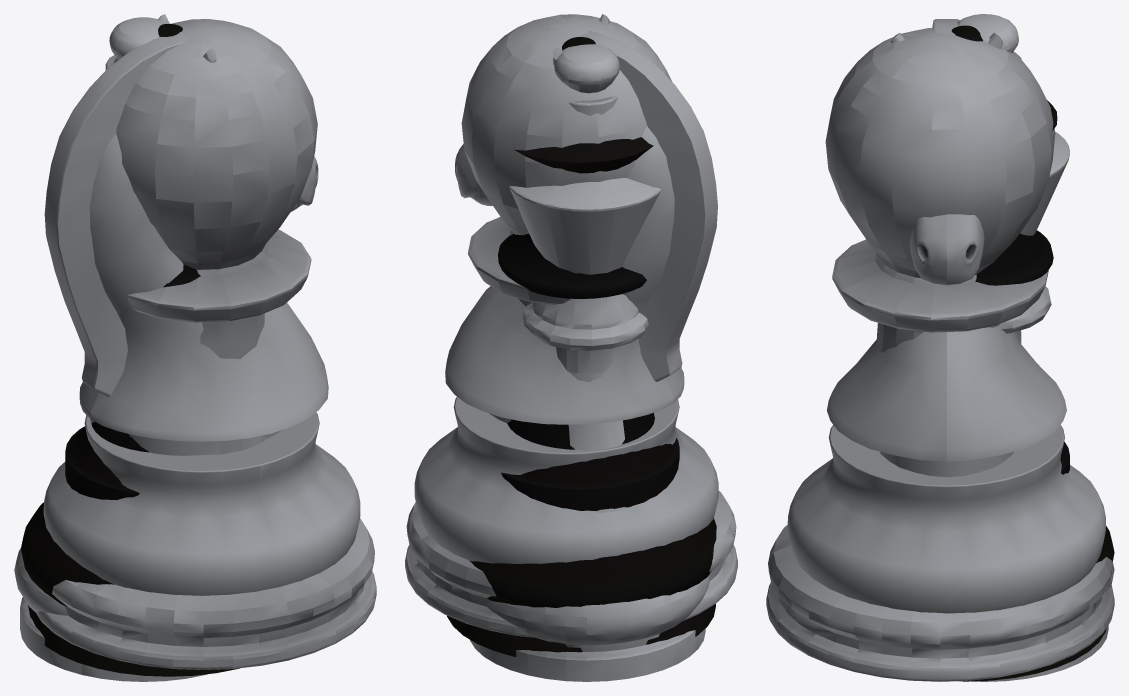
Rendered from hero-chess.glb.
3 views of the same model, side by side, from view 1: azimuth 30°, elevation 25°; view 2: azimuth 150°, elevation 25°; view 3: azimuth 270°, elevation 25° (orthographic). The views are drawn at different scales.
Visible parts, largest first — view 1: knight, pawn, queen, king; view 2: knight, king, pawn, queen; view 3: pawn, knight, queen, king.
Boxes of the visible parts, x1,y1,x2,y2 form: knight: (43,14,360,595); pawn: (36,19,376,669); queen: (21,23,239,676); king: (14,17,206,681); knight: (414,14,718,563); king: (470,44,709,681); pawn: (405,14,737,637); queen: (447,37,716,656); pawn: (766,28,1114,681); knight: (787,19,1105,613); queen: (951,25,1114,681); king: (957,14,1114,681).
Bounding box in the file's own units: 0.8675 × 1.68 × 0.8674.
Materials: 1 (1 with a texture image).
